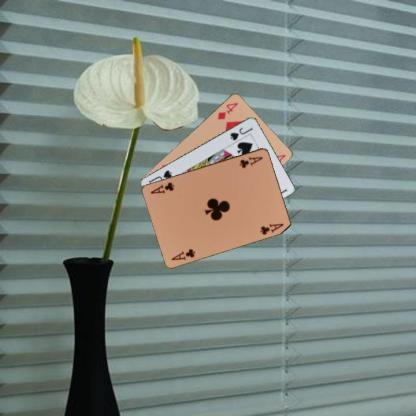4d: (215, 99, 239, 121)
Ac: (237, 154, 264, 169), (169, 246, 196, 261)
Js: (228, 124, 254, 142)
